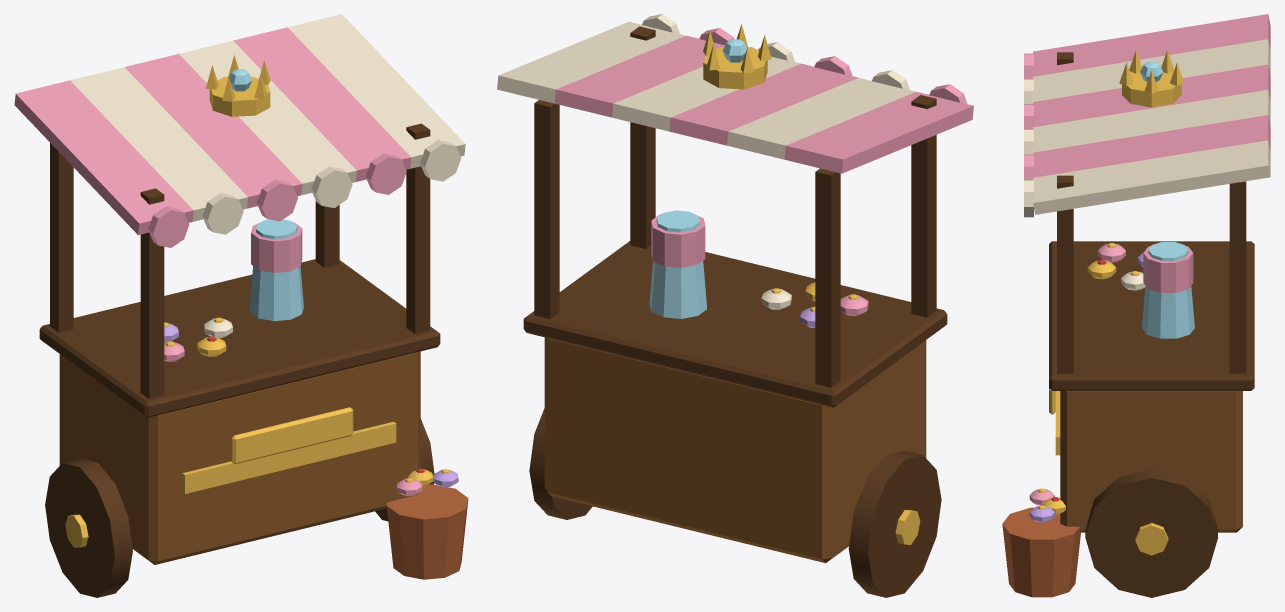
Rendered from PR_Station_SezonBahar_T3.fbx.
3 renders of one model, left to right at view 1: azimuth 30°, elevation 25°; view 2: azimuth 150°, elevation 25°; view 3: azimuth 270°, elevation 25°, orthographic. The views are drawn at different scales.
Parts seen in each view (by area): view 1: PR_Station_SezonBahar_T3; view 2: PR_Station_SezonBahar_T3; view 3: PR_Station_SezonBahar_T3.
Part boxes in pixels (bbox=[...]): PR_Station_SezonBahar_T3: bbox=[14, 14, 468, 597]; PR_Station_SezonBahar_T3: bbox=[497, 14, 973, 597]; PR_Station_SezonBahar_T3: bbox=[1002, 14, 1270, 597].
Size of the model in its own units: 1.1 by 1.54 by 0.808.
